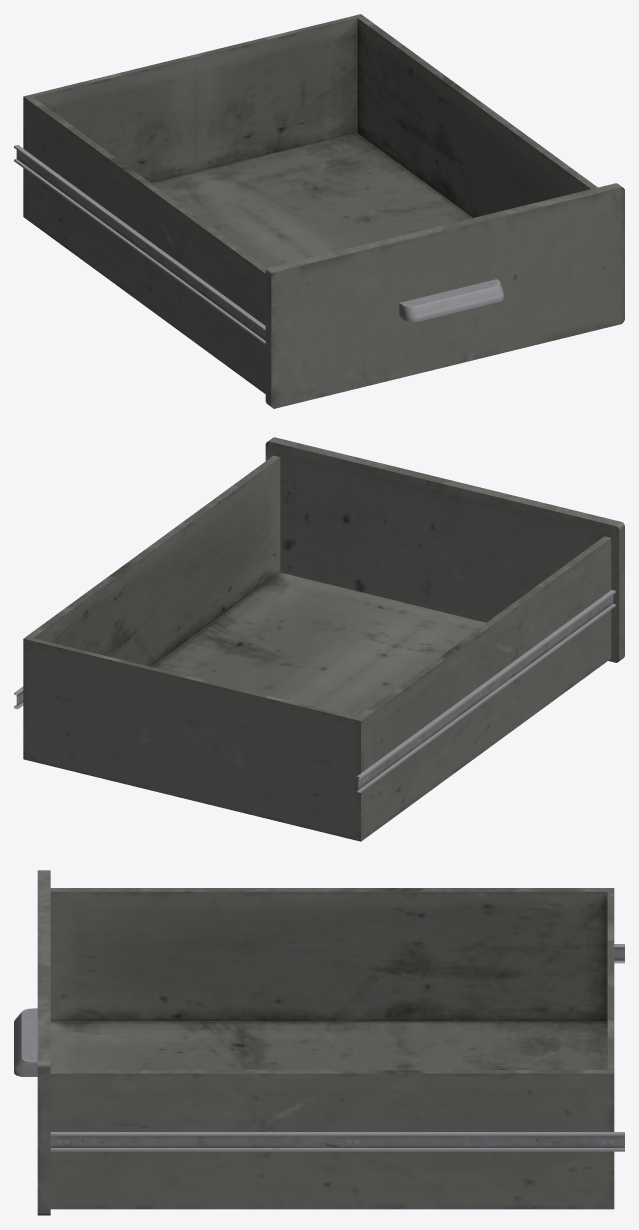
File: SM_Teachers_Desk_02b.fbx
3 views of the same model, one above another, from view 1: azimuth 30°, elevation 25°; view 2: azimuth 150°, elevation 25°; view 3: azimuth 270°, elevation 25° (orthographic). The views are drawn at different scales.
Visible parts, largest first — view 1: SM_Teachers_Desk_02b_LOD0; view 2: SM_Teachers_Desk_02b_LOD0; view 3: SM_Teachers_Desk_02b_LOD0.
Boxes of the visible parts, box(x1,y1,x2,y2) form: SM_Teachers_Desk_02b_LOD0: box(14, 14, 624, 408); SM_Teachers_Desk_02b_LOD0: box(14, 437, 624, 841); SM_Teachers_Desk_02b_LOD0: box(14, 870, 624, 1215).
Bounding box in the file's own units: 51.01 × 67.8 × 18.85.
1 material, 1 textured.
